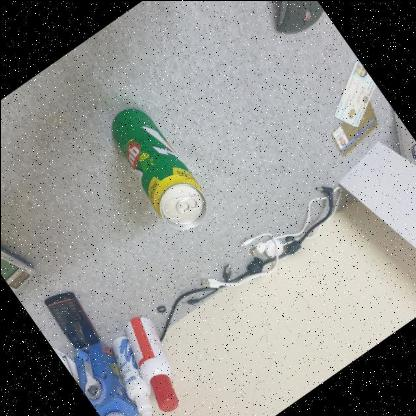Can: (108, 105, 204, 230)
